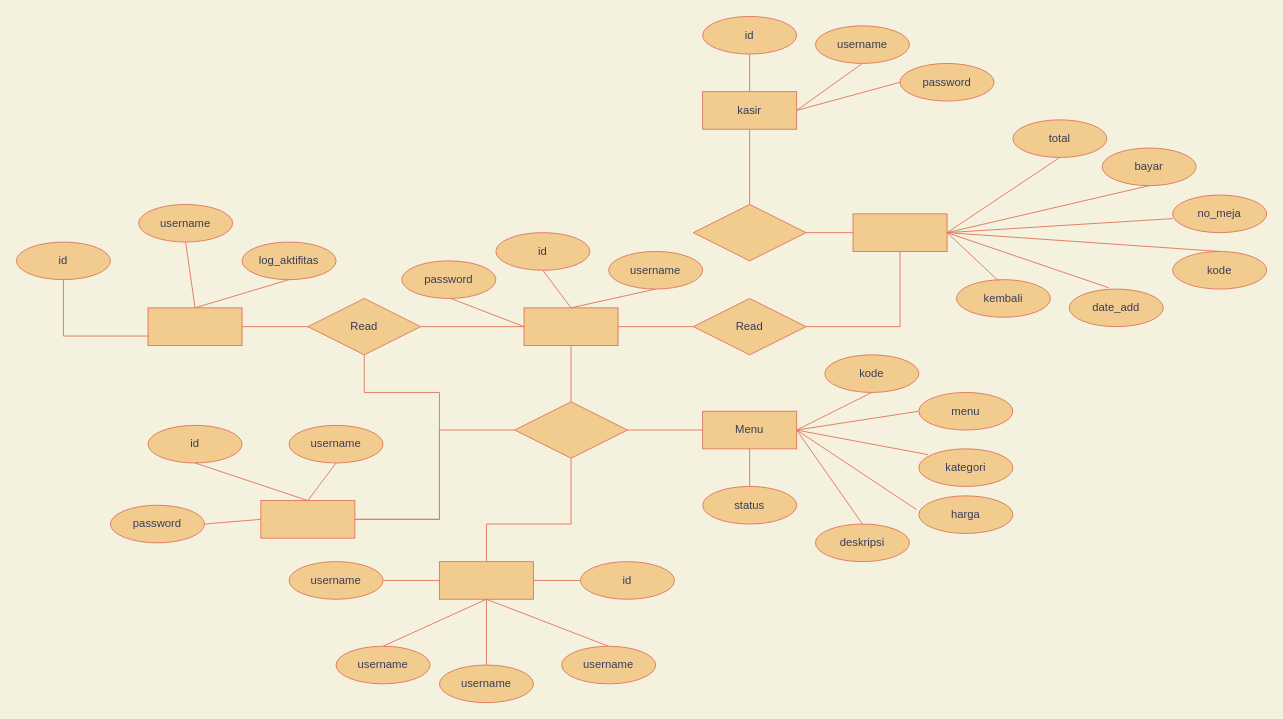
Image size: 1283x719. Some labels were removed from this diagram. Here are the shapes that lost their labels. From the top down, the centre of each, then its label:
At pixel 749 232: "Create / Read".
At pixel 899 232: "penjualan".
At pixel 194 326: "Log Aktifitas".
At pixel 570 326: "Manager".
At pixel 570 429: "CRUD".
At pixel 307 519: "Admin".
At pixel 486 580: "User".
